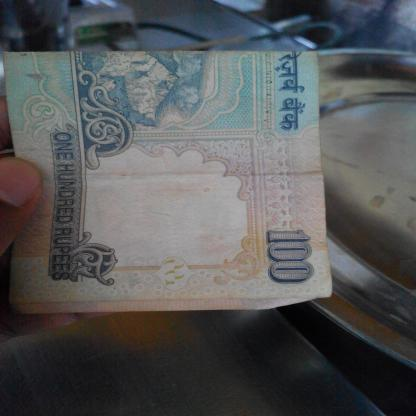Old100Back: (4, 50, 333, 313)
